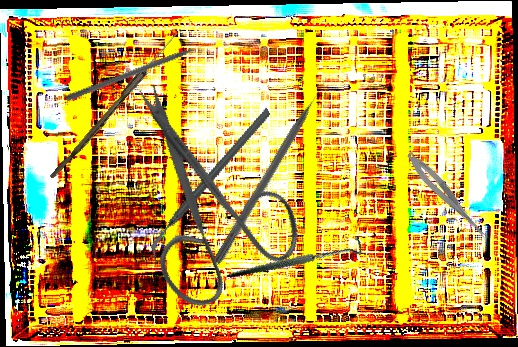Chopper: (116, 106, 305, 260)
Hook Surgical: (226, 204, 366, 311)
Iris Scissors: (65, 76, 334, 335)
Micro Scissor: (402, 149, 496, 245)
Pusher: (211, 75, 334, 267), (64, 38, 216, 104)
Surgical Spoon: (49, 29, 181, 182)
